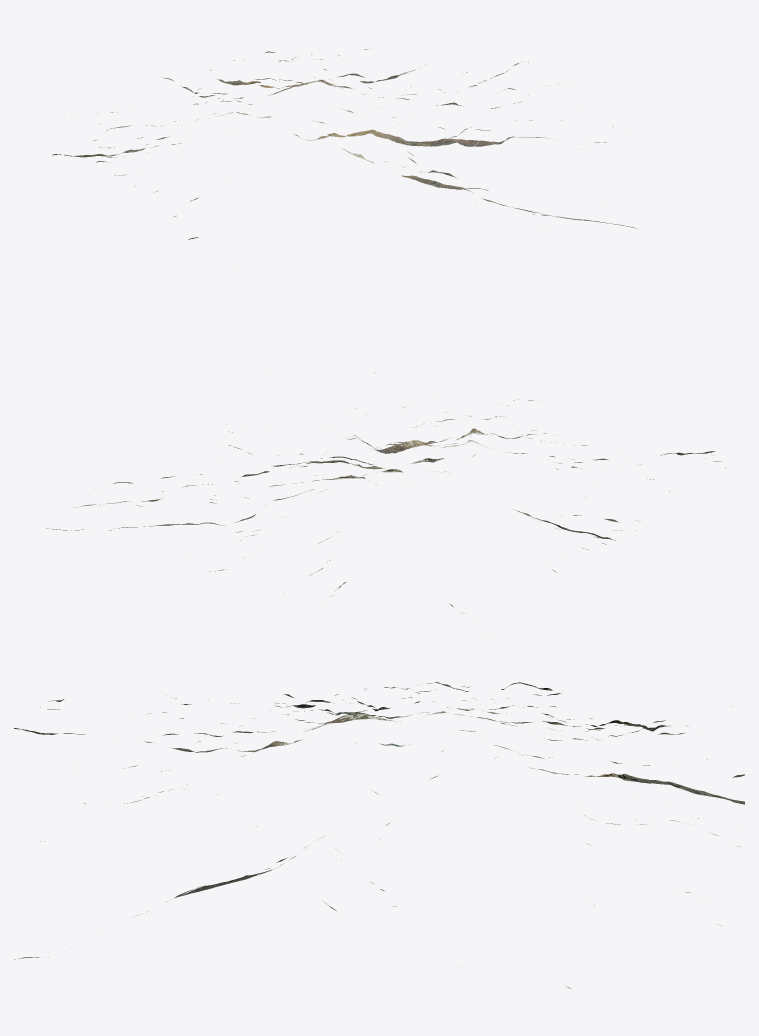
File: ruapehu.glb
3 renders of one model, top to bottom at view 1: azimuth 30°, elevation 25°; view 2: azimuth 150°, elevation 25°; view 3: azimuth 270°, elevation 25°, orthographic. The views are drawn at different scales.
Visible parts, largest first — view 1: dem-rgb-13/8091/5069, dem-rgb-13/8091/5068; view 2: dem-rgb-13/8091/5069; view 3: dem-rgb-13/8090/5069, dem-rgb-13/8090/5068, dem-rgb-13/8091/5068.
Part boxes in pixels (x1,y1,x2,y2): dem-rgb-13/8091/5069: (312, 83, 479, 178); dem-rgb-13/8091/5068: (170, 51, 403, 104); dem-rgb-13/8091/5069: (270, 428, 484, 486); dem-rgb-13/8090/5069: (258, 682, 501, 750); dem-rgb-13/8090/5068: (501, 682, 744, 777); dem-rgb-13/8091/5068: (501, 747, 744, 846).
Size of the model in its own units: 1.34 by 0.1956 by 1.34.
Materials: 9 (9 with a texture image).
